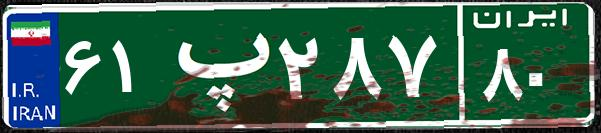0: (525, 38, 570, 115)
1: (110, 28, 158, 105)
2: (273, 28, 330, 110)
6: (57, 26, 110, 107)
7: (385, 28, 445, 110)
8: (330, 28, 385, 110), (475, 38, 525, 113)
پ: (158, 15, 273, 115)
